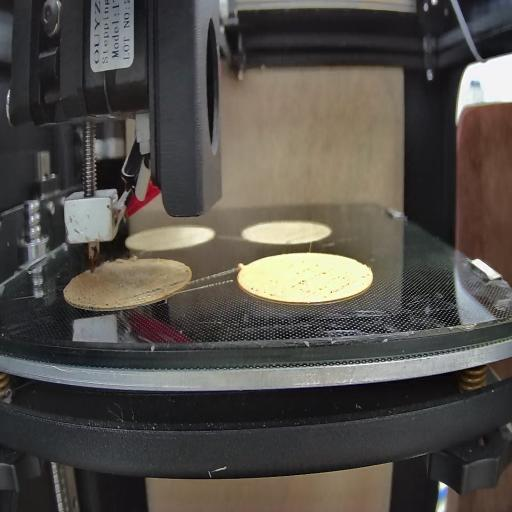under_extrusion: (293, 263, 369, 298), (65, 270, 112, 311), (119, 279, 182, 306), (250, 276, 276, 300)
